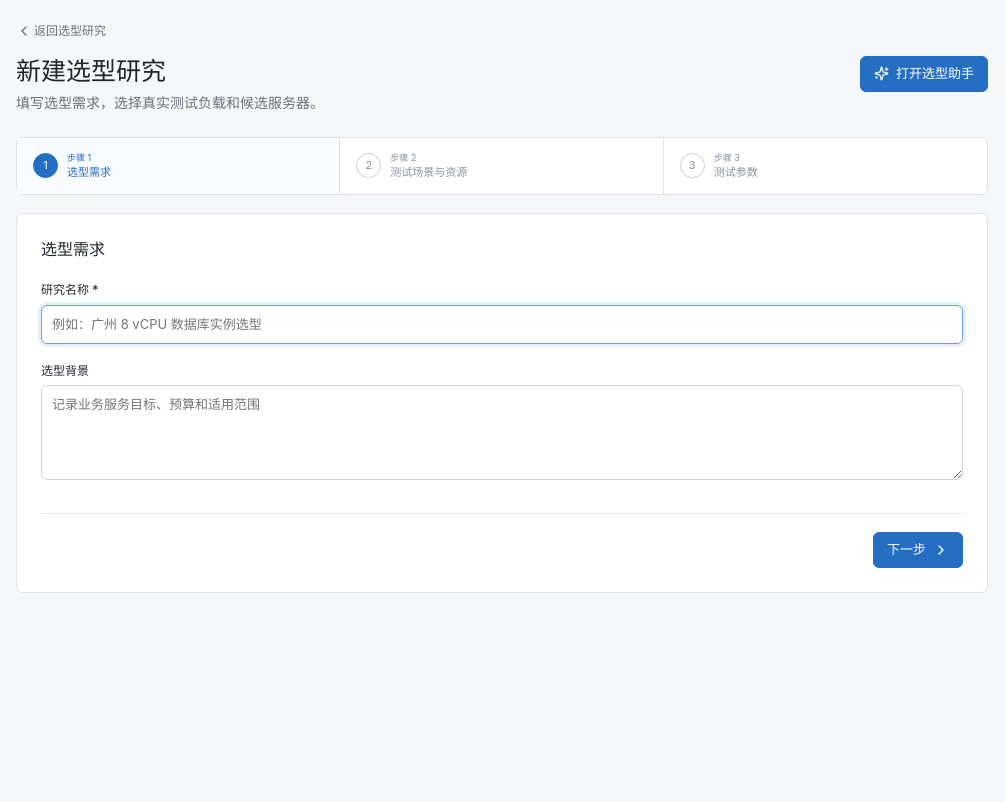
选型研究 Benchmark 目录 › 允许套件声明单次外层重复以承载内部多轮诊断
Type "最小完整诊断" into the field labelled "研究名称 *" at (502, 324), box [41,305,963,344]
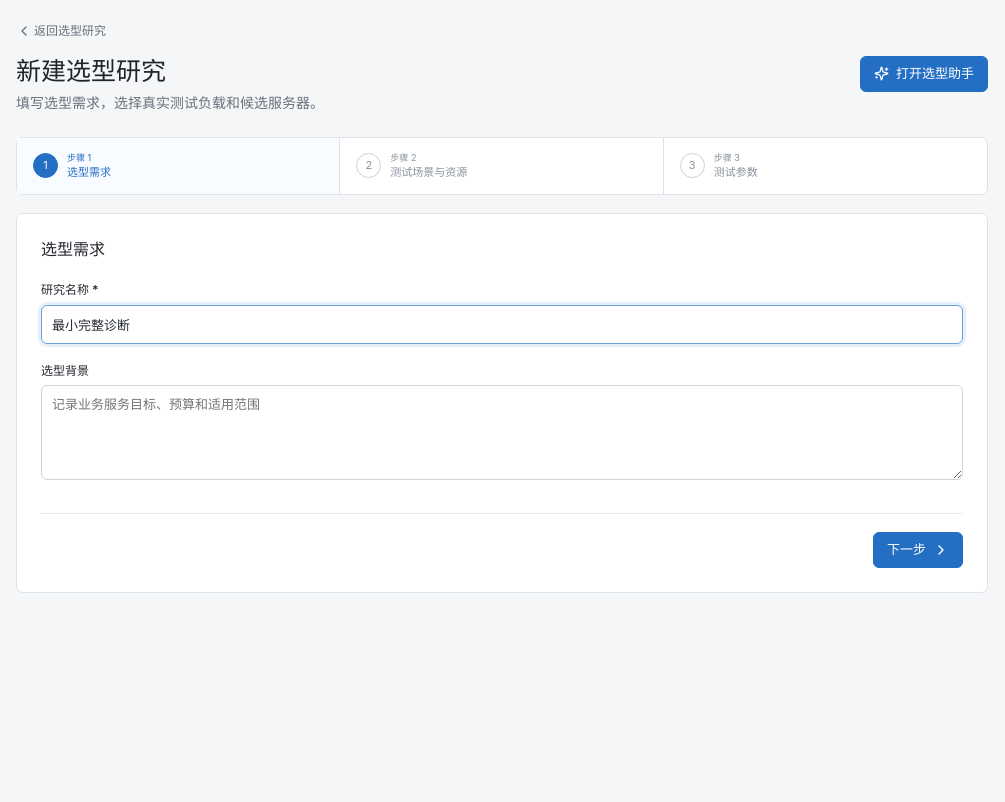
Click the button "下一步" at (918, 550), box [873,532,963,568]
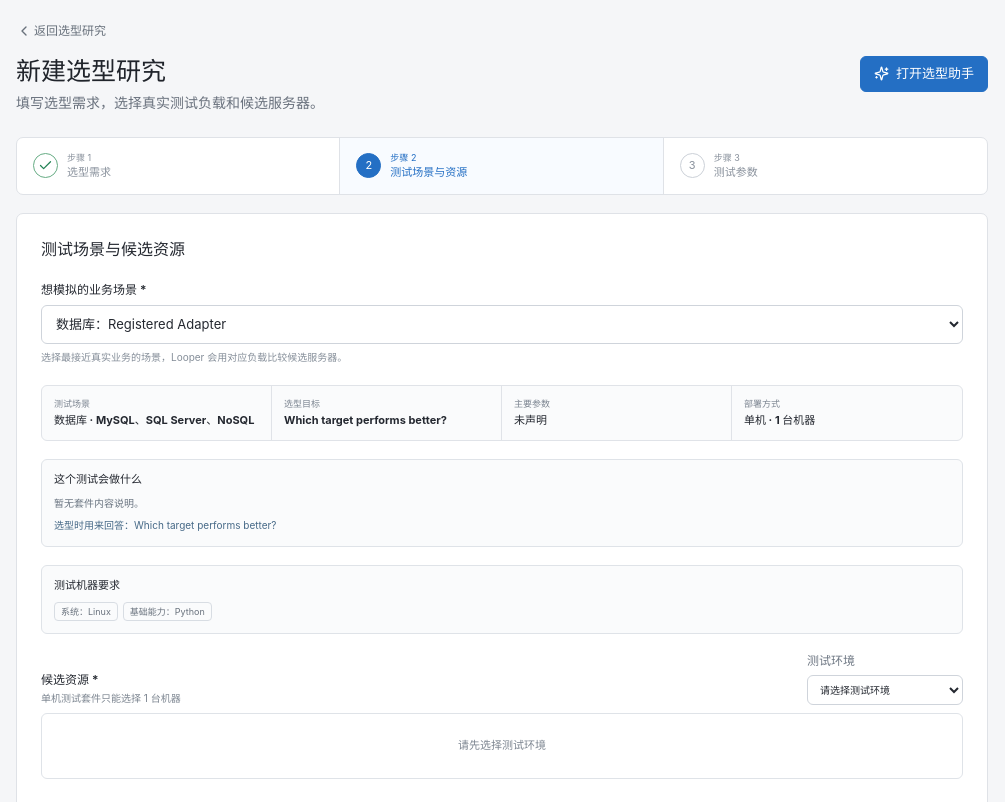
expect the dropdown labelled "想模拟的业务场景 * 选择最接近真实业务的场景，Looper 会用对应负载比较候选服务器。" shows "数据库：Registered Adapter": met, box [41,305,963,344]
Select "外部 SSH（1 台可用）" in the dropdown labelled "测试环境" at (885, 690), box [807,675,963,705]
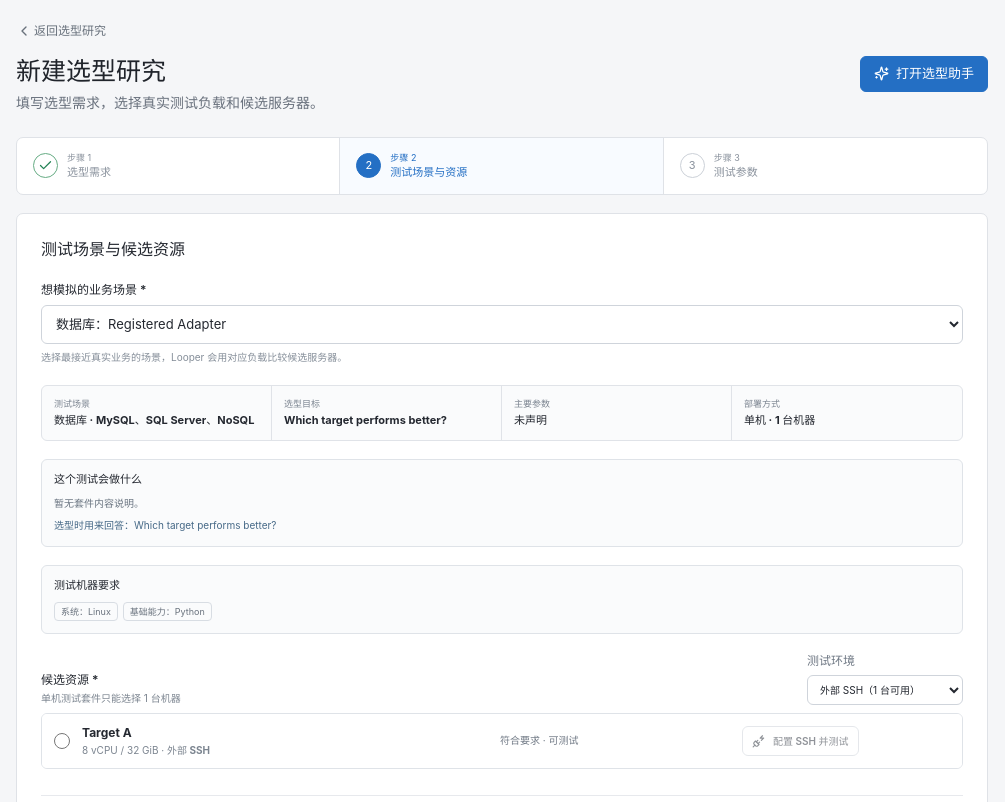
Click the radio button at (62, 741), box [54,733,70,749]
(page scrolled)
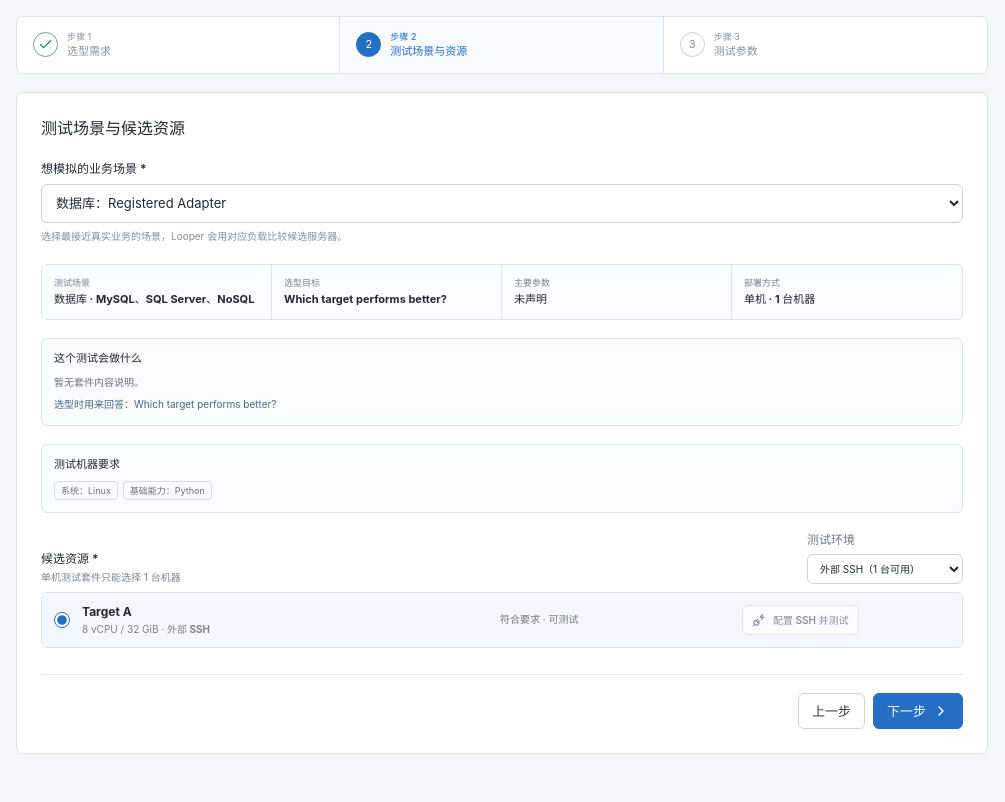
Click the button "下一步" at (918, 711), box [873,693,963,729]
(page scrolled)
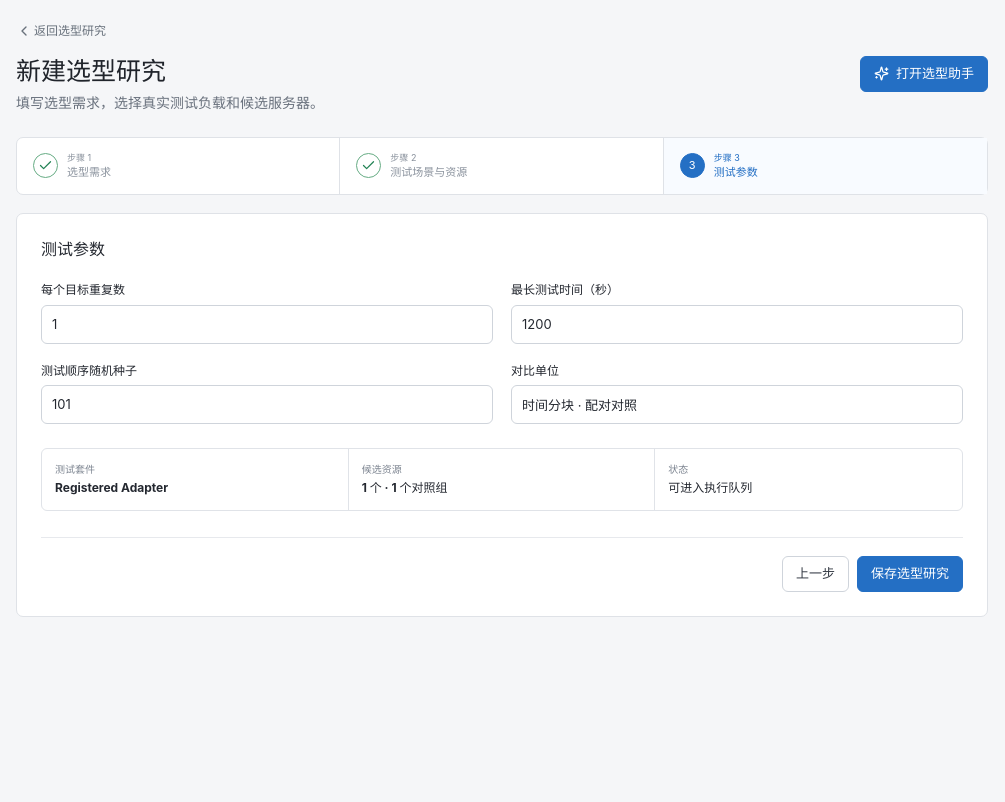
expect the number field labelled "每个目标重复数" holds "1": met, box [41,305,493,344]
